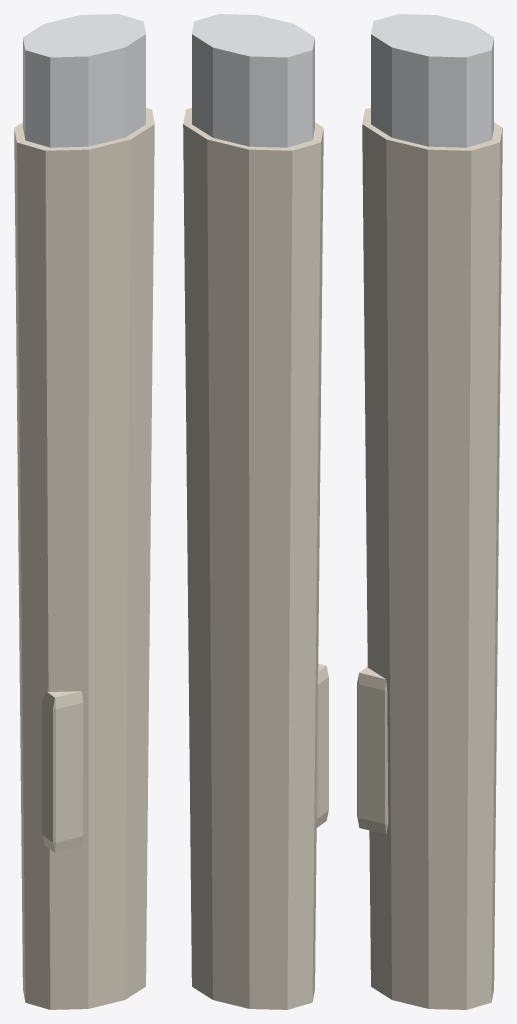
File: b17_furled_walking_umbrella.glb
The picture shows the model from 3 angles, left to right: view 1: azimuth 30°, elevation 25°; view 2: azimuth 150°, elevation 25°; view 3: azimuth 330°, elevation 25°; orthographic projection.
Parts seen in each view (by area): view 1: b17_furled_walking_umbrella; view 2: b17_furled_walking_umbrella; view 3: b17_furled_walking_umbrella.
Boxes of the visible parts, left/top/right/bottom form: b17_furled_walking_umbrella: left=14, top=14, right=154, bottom=1009; b17_furled_walking_umbrella: left=183, top=14, right=328, bottom=1009; b17_furled_walking_umbrella: left=357, top=14, right=502, bottom=1009.
Size of the model in its own units: 0.126 by 0.849 by 0.082.
